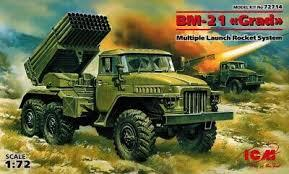MIL_SAM_TEL: (18, 12, 226, 162), (179, 50, 265, 96)
